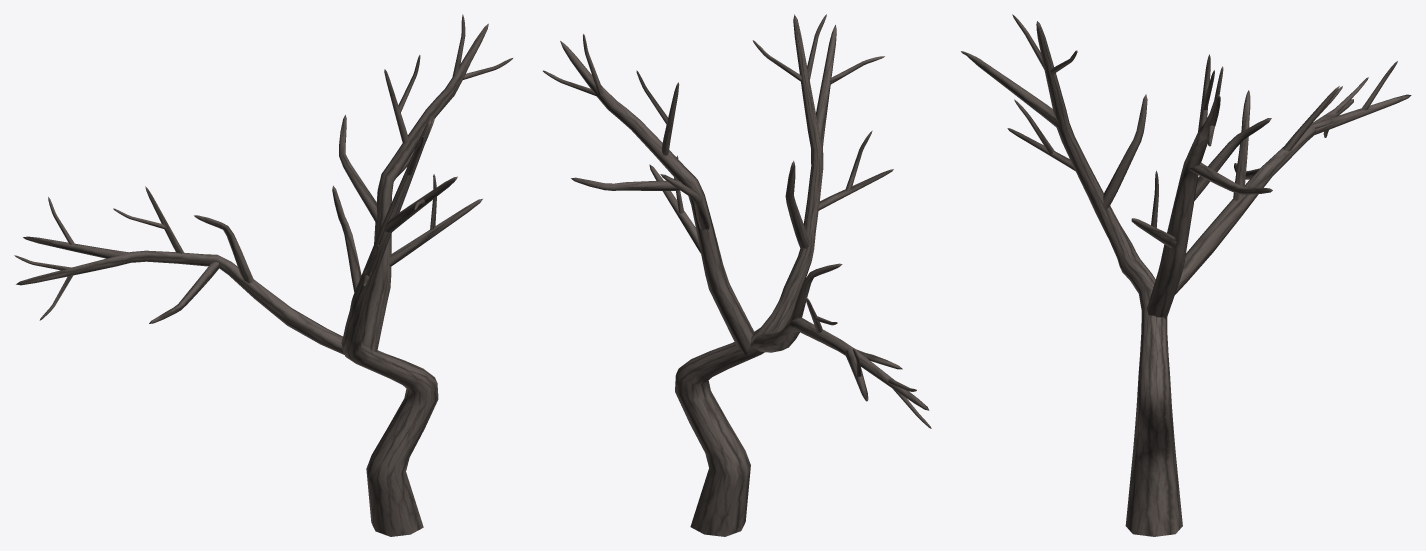
The model's file is quaternius-ultimate-stylized-nature-dead-tree-7.glb.
3 renders of one model, left to right at view 1: azimuth 30°, elevation 25°; view 2: azimuth 150°, elevation 25°; view 3: azimuth 270°, elevation 25°, orthographic. The views are drawn at different scales.
Visible parts, largest first — view 1: DeadTree_7; view 2: DeadTree_7; view 3: DeadTree_7.
Boxes of the visible parts, bbox=[...] form: DeadTree_7: bbox=[14, 14, 512, 536]; DeadTree_7: bbox=[543, 14, 931, 536]; DeadTree_7: bbox=[961, 14, 1411, 536].
Size of the model in its own units: 6.14 by 6.31 by 5.03.
1 material, 1 textured.
